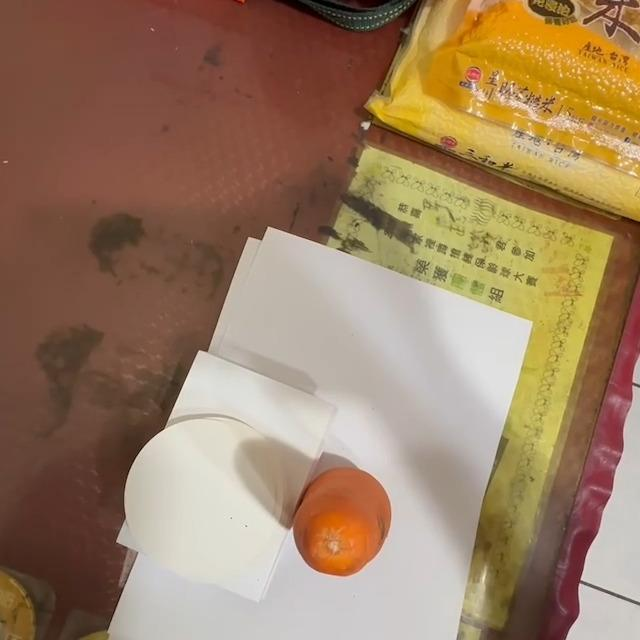carrot: (292, 468, 394, 580)
